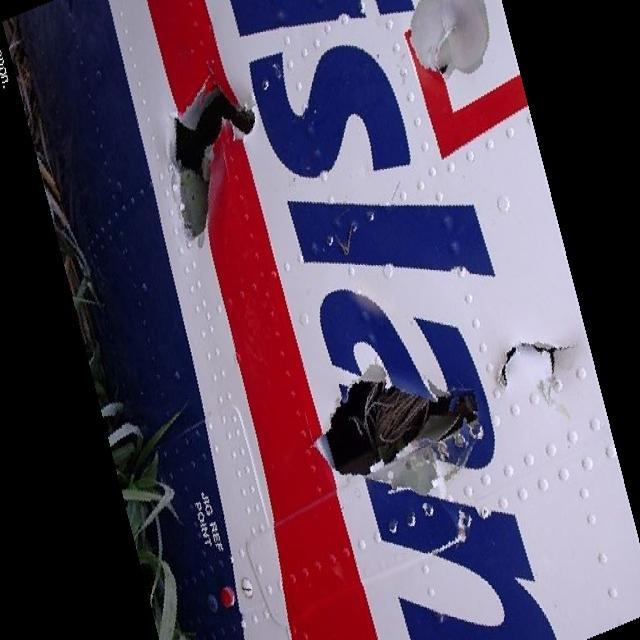crack: (318, 381, 484, 494), (165, 75, 265, 261), (493, 336, 582, 398), (428, 22, 466, 81)
